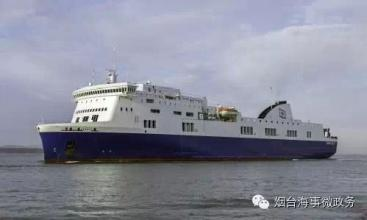youlun: (34, 60, 338, 166)
